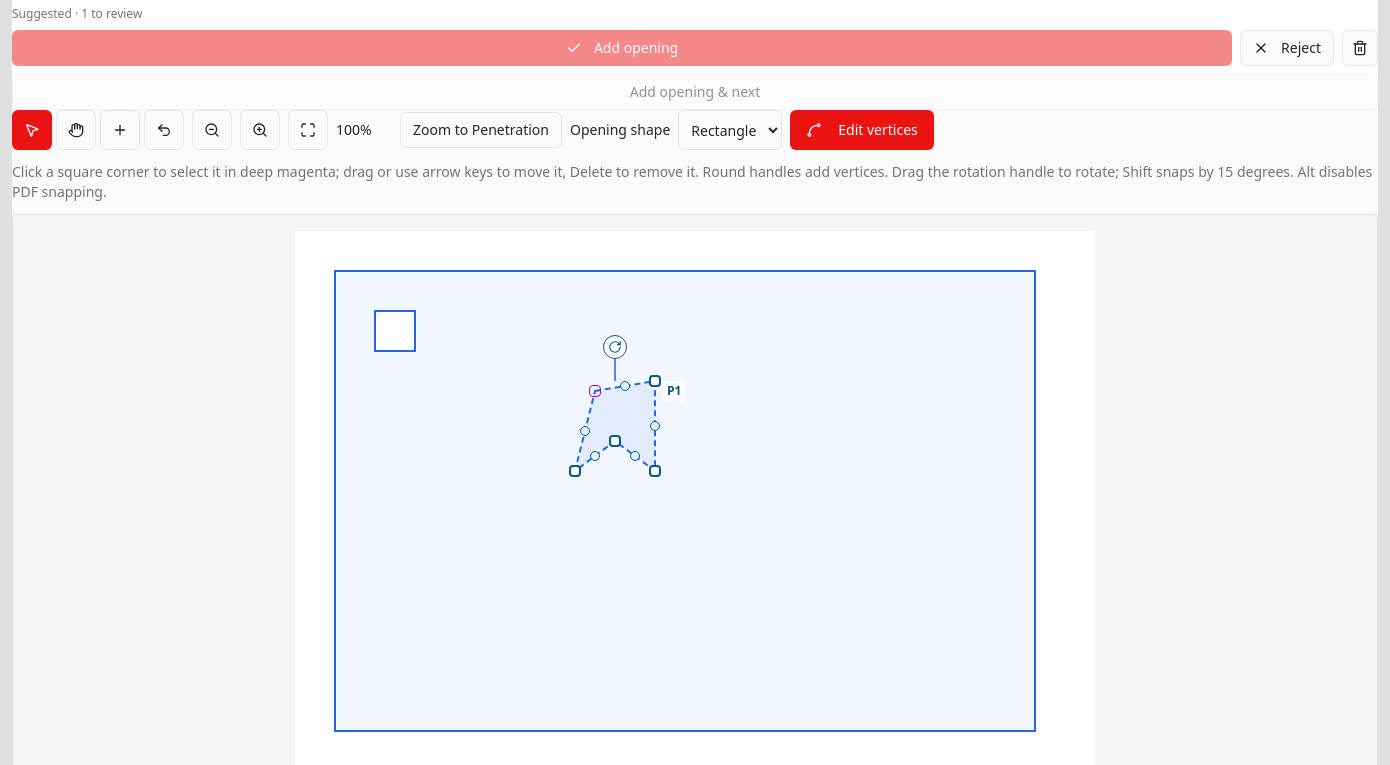
polygon penetration review › keeps a clicked vertex still, retains its grab offset while snapping, and rejects self-intersections
The width and height of the screenshot is (1390, 765).
Earlier steps of the test are not shown.
(page scrolled)
Press the mouse on the button named "Move Penetration 1 vertex 1" at (595,391), box 589,385 -> 601,397
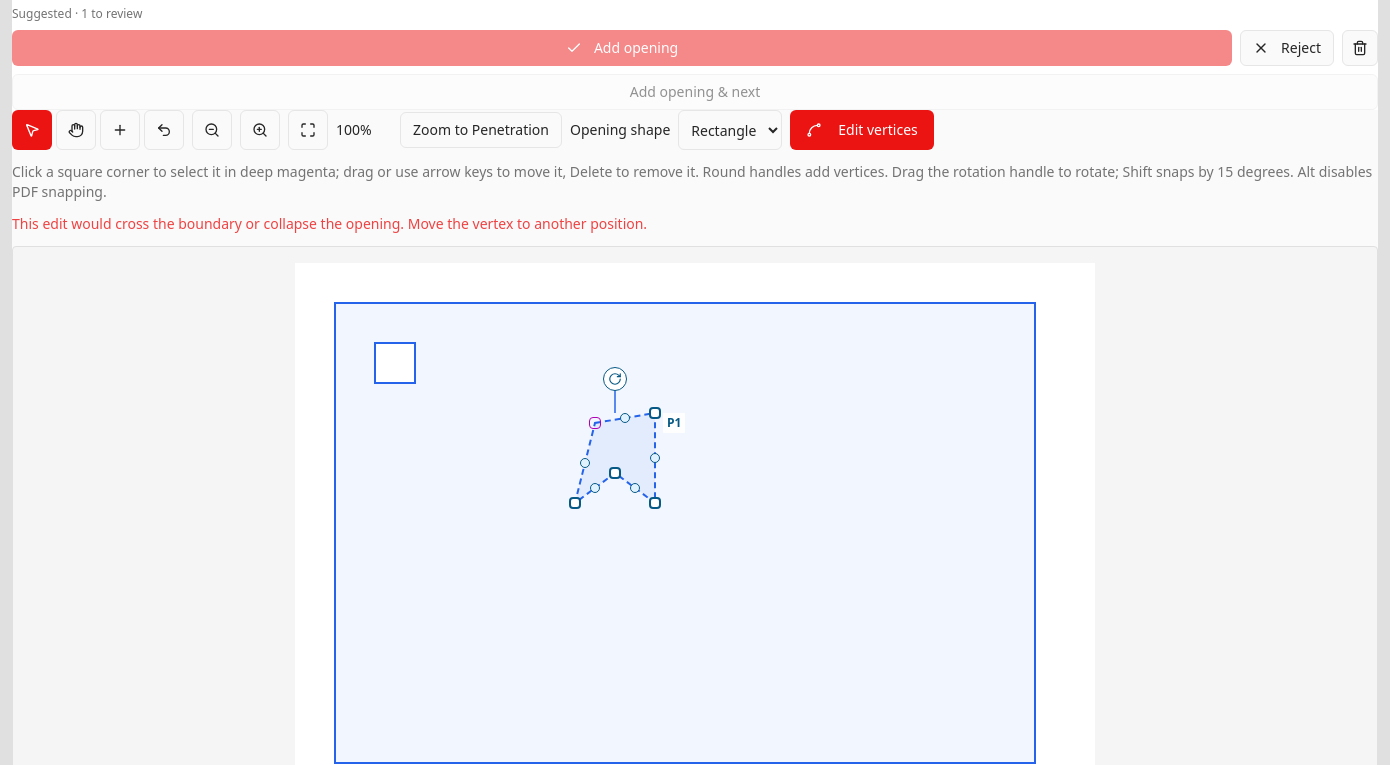
Expected: the 2nd message shows "cross the boundary", 12,214 -> 647,233
